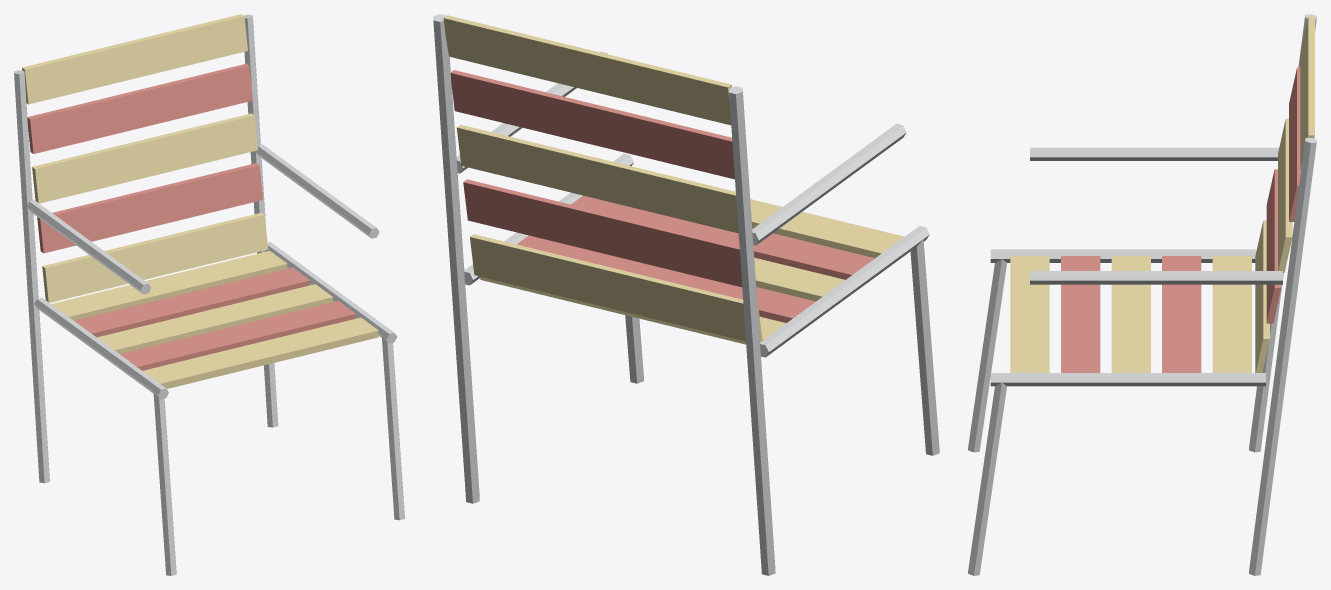
Rendered from lawn_chair_r.glb.
3 views of the same model, side by side, from view 1: azimuth 30°, elevation 25°; view 2: azimuth 150°, elevation 25°; view 3: azimuth 270°, elevation 25° (orthographic). The views are drawn at different scales.
Visible parts, largest first — view 1: lawn_chair_r_cloth_y, lawn_chair_r_cloth_r, lawn_chair_r_alu; view 2: lawn_chair_r_cloth_y, lawn_chair_r_cloth_r, lawn_chair_r_alu; view 3: lawn_chair_r_alu, lawn_chair_r_cloth_y, lawn_chair_r_cloth_r.
Part boxes in pixels (<box>): lawn_chair_r_cloth_y: <box>22,14,378,388</box>; lawn_chair_r_cloth_r: <box>27,64,355,370</box>; lawn_chair_r_alu: <box>14,14,404,575</box>; lawn_chair_r_cloth_y: <box>443,15,904,344</box>; lawn_chair_r_cloth_r: <box>450,70,874,322</box>; lawn_chair_r_alu: <box>433,14,939,575</box>; lawn_chair_r_alu: <box>968,14,1316,575</box>; lawn_chair_r_cloth_y: <box>1010,16,1314,372</box>; lawn_chair_r_cloth_r: <box>1061,67,1300,372</box>.
Size of the model in its own units: 0.544 by 0.8564 by 0.6206.
